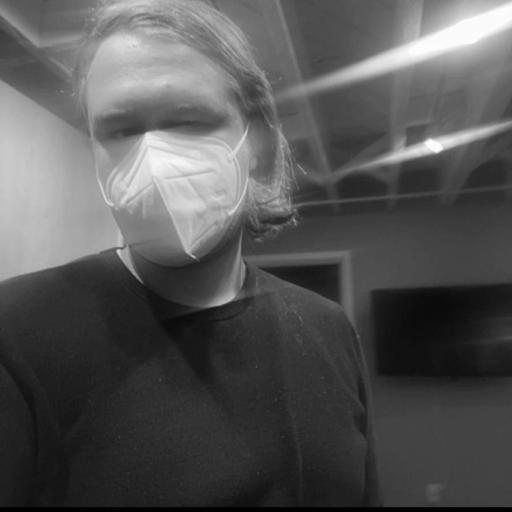mask: (65, 0, 293, 273)
